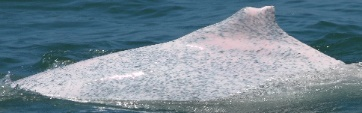fin: (8, 3, 352, 107)
